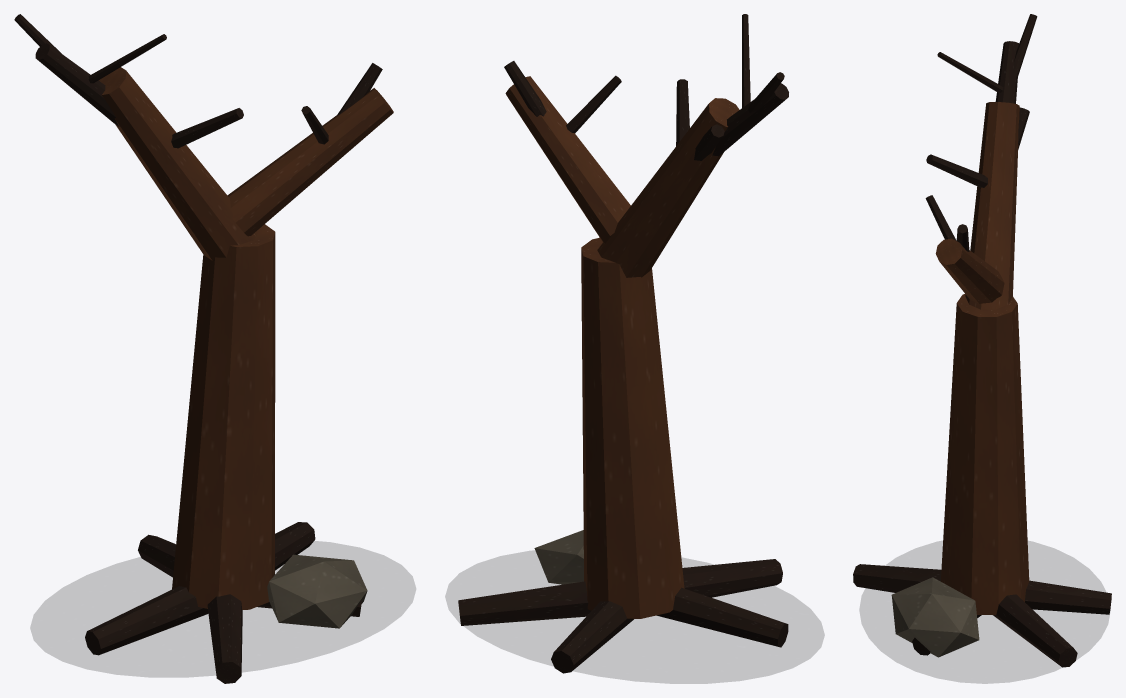
The model's file is dead_tree_a_bc_v1.glb.
The picture shows the model from 3 angles, left to right: view 1: azimuth 30°, elevation 25°; view 2: azimuth 150°, elevation 25°; view 3: azimuth 270°, elevation 25°; orthographic projection. The views are drawn at different scales.
Parts seen in each view (by area): view 1: split_dead_branch_0, ground_contact_shadow.001, split_dead_branch_1, split_dead_branch_2, root_stone, exposed_root_4, exposed_root_3, split_dead_branch_3, exposed_root_1, exposed_root_0, dry_opposing_twig_1, dry_opposing_twig_3 (+1 smaller); view 2: split_dead_branch_0, ground_contact_shadow.001, split_dead_branch_1, split_dead_branch_2, exposed_root_1, exposed_root_4, exposed_root_3, exposed_root_0, root_stone, split_dead_branch_3, dry_twig_2, dry_opposing_twig_2 (+3 smaller); view 3: split_dead_branch_0, ground_contact_shadow.001, split_dead_branch_1, root_stone, split_dead_branch_2, exposed_root_1, exposed_root_0, exposed_root_3, split_dead_branch_3, dry_opposing_twig_1, dry_twig_3, dry_opposing_twig_3 (+1 smaller).
Boxes of the visible parts, x1=… form: split_dead_branch_0: x1=172, y1=224, x2=275, y2=609; ground_contact_shadow.001: x1=30, y1=541, x2=415, y2=676; split_dead_branch_1: x1=99, y1=67, x2=257, y2=260; split_dead_branch_2: x1=227, y1=88, x2=393, y2=236; root_stone: x1=267, y1=554, x2=367, y2=628; exposed_root_4: x1=85, y1=586, x2=208, y2=655; exposed_root_3: x1=207, y1=594, x2=242, y2=683; split_dead_branch_3: x1=35, y1=43, x2=119, y2=126; exposed_root_1: x1=275, y1=522, x2=315, y2=570; exposed_root_0: x1=138, y1=534, x2=175, y2=577; dry_opposing_twig_1: x1=171, y1=108, x2=243, y2=148; dry_opposing_twig_3: x1=88, y1=34, x2=166, y2=83; split_dead_branch_0: x1=581, y1=237, x2=684, y2=618; ground_contact_shadow.001: x1=445, y1=551, x2=824, y2=683; split_dead_branch_1: x1=597, y1=98, x2=739, y2=277; split_dead_branch_2: x1=505, y1=76, x2=630, y2=243; exposed_root_1: x1=458, y1=581, x2=591, y2=625; exposed_root_4: x1=656, y1=587, x2=788, y2=647; exposed_root_3: x1=682, y1=559, x2=782, y2=597; exposed_root_0: x1=551, y1=601, x2=633, y2=673; root_stone: x1=534, y1=530, x2=583, y2=584; split_dead_branch_3: x1=712, y1=83, x2=788, y2=156; dry_twig_2: x1=504, y1=61, x2=546, y2=116; dry_opposing_twig_2: x1=566, y1=75, x2=621, y2=133; split_dead_branch_0: x1=941, y1=294, x2=1029, y2=614; ground_contact_shadow.001: x1=860, y1=541, x2=1109, y2=683; split_dead_branch_1: x1=965, y1=102, x2=1019, y2=309; root_stone: x1=891, y1=577, x2=979, y2=657; split_dead_branch_2: x1=935, y1=238, x2=1004, y2=303; exposed_root_1: x1=993, y1=594, x2=1077, y2=667; exposed_root_0: x1=1025, y1=580, x2=1111, y2=614; exposed_root_3: x1=853, y1=564, x2=941, y2=592; split_dead_branch_3: x1=995, y1=41, x2=1018, y2=103; dry_opposing_twig_1: x1=926, y1=154, x2=987, y2=187; dry_twig_3: x1=1013, y1=14, x2=1037, y2=78; dry_opposing_twig_3: x1=937, y1=52, x2=1003, y2=92.
Size of the model in its own units: 1.57 by 2.6 by 1.15.
Materials: 4 (4 with a texture image).
